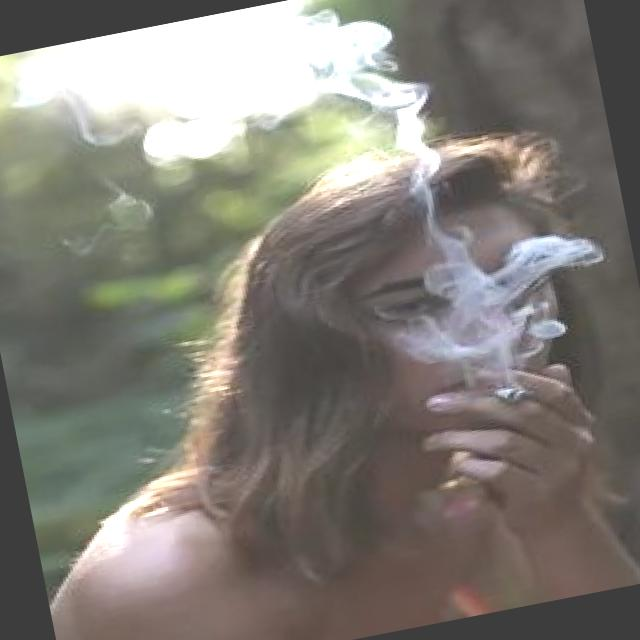cigarette: (479, 382, 534, 411)
